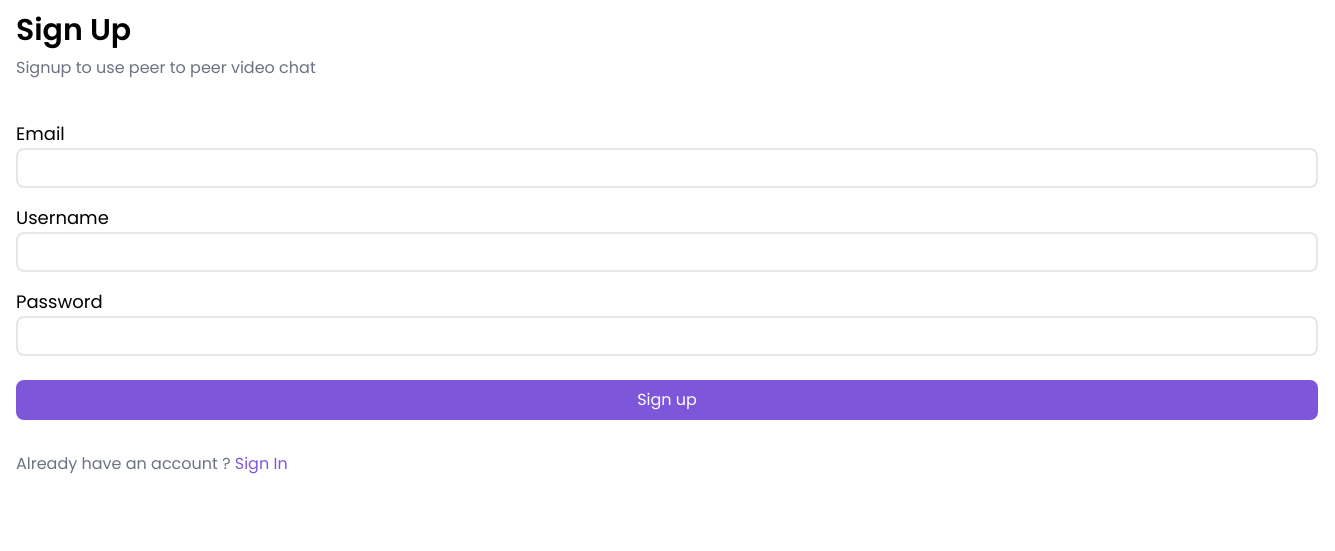
Signup form › should render correct error empty email input
The width and height of the screenshot is (1335, 551).
Step 1. Click the button "Sign up" → (667, 400), box [16, 380, 1318, 420]
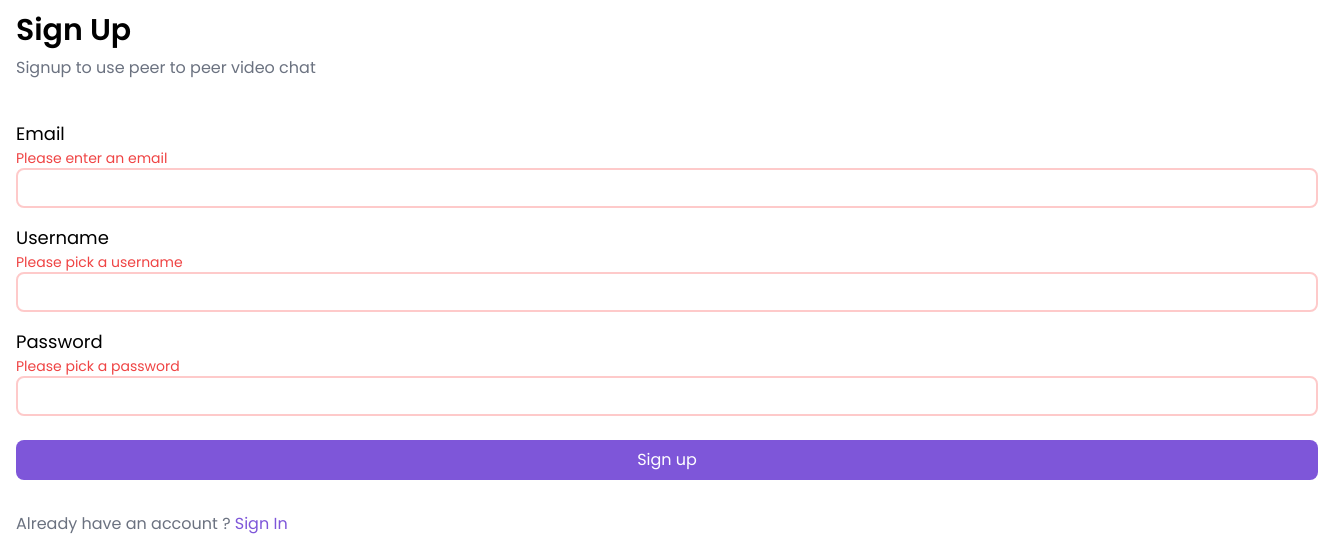
Expected: the text "Please enter an email" is shown, [16, 148, 167, 168]
